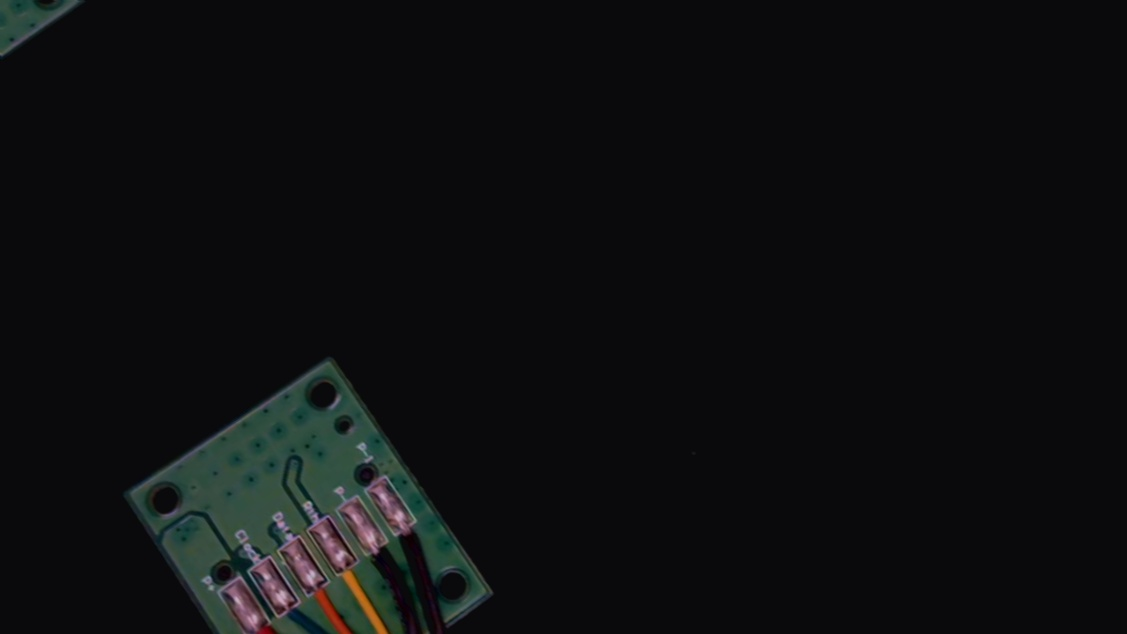Black: (356, 529, 409, 589)
Black1: (384, 505, 442, 570)
Green: (267, 585, 327, 634)
Orange: (296, 567, 356, 634)
Red: (237, 609, 296, 634)
Yellow: (326, 549, 388, 620)
